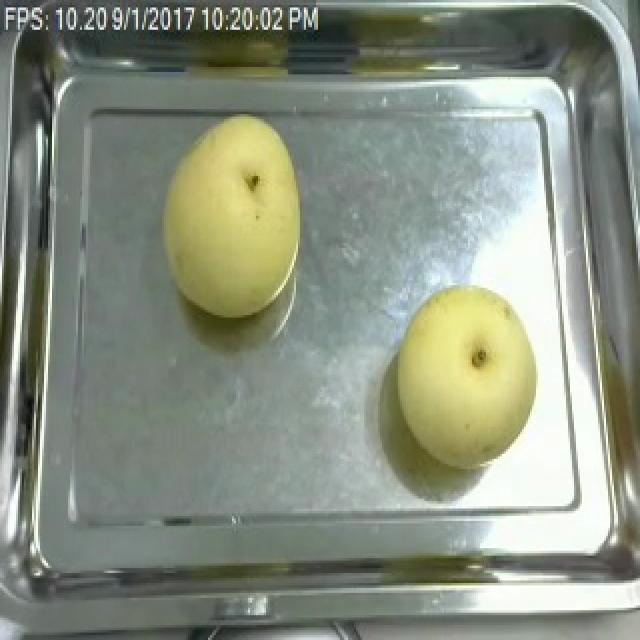Fruit: (384, 275, 550, 474), (154, 111, 310, 322)
